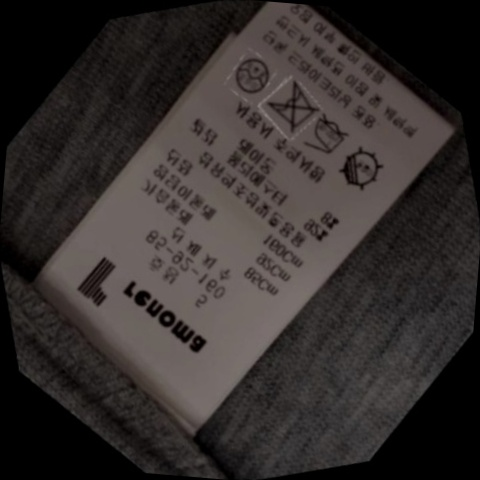DN_wash: (257, 77, 324, 138)
dry_clean_petrol_only: (224, 48, 277, 101)
iron_low: (297, 109, 357, 164)
line_dry_in_shade: (326, 141, 390, 199)
